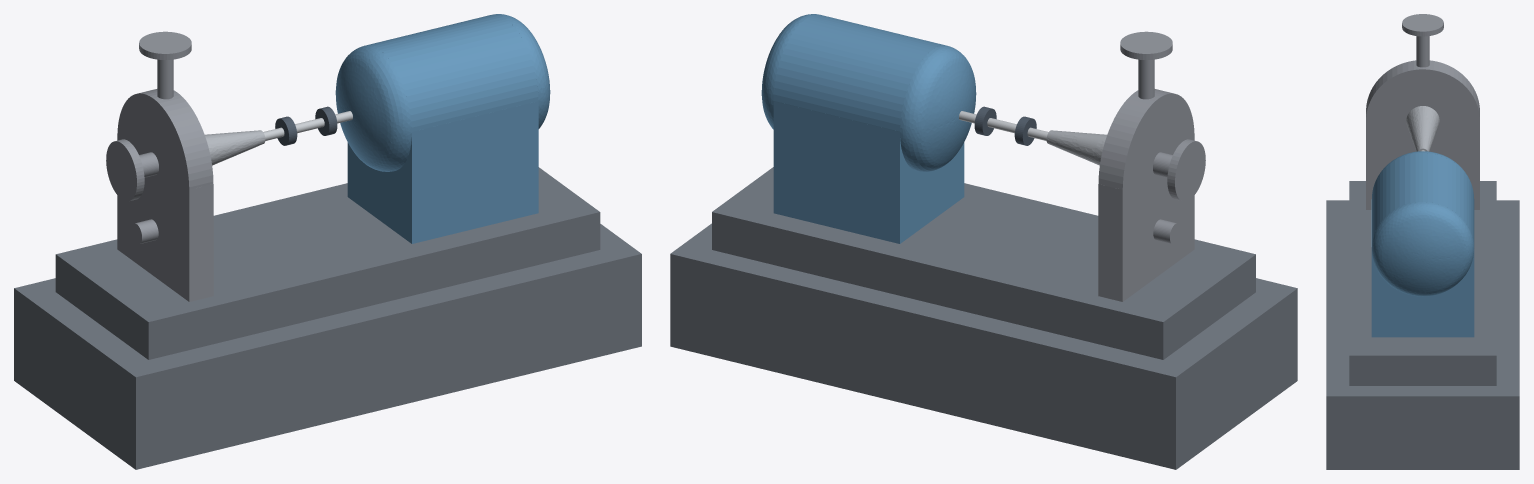
File: bomba-teste.glb
3 renders of one model, left to right at view 1: azimuth 30°, elevation 25°; view 2: azimuth 150°, elevation 25°; view 3: azimuth 270°, elevation 25°, orthographic. The views are drawn at different scales.
Visible parts, largest first — view 1: peca_16, peca_15, peca_06, peca_03, peca_08, peca_04, peca_07, peca_10, peca_05, peca_09, peca_12, peca_13 (+1 smaller); view 2: peca_16, peca_15, peca_06, peca_03, peca_07, peca_04, peca_08, peca_10, peca_05, peca_09, peca_12, peca_13 (+1 smaller); view 3: peca_16, peca_15, peca_05, peca_08, peca_06, peca_03, peca_07, peca_09, peca_12, peca_13, peca_04.
Boxes of the visible parts, left/top/right/bottom form: peca_16: left=14, top=224, right=641, bottom=469; peca_15: left=55, top=167, right=600, bottom=359; peca_06: left=347, top=101, right=538, bottom=243; peca_03: left=367, top=14, right=538, bottom=131; peca_08: left=117, top=89, right=213, bottom=233; peca_04: left=335, top=45, right=411, bottom=171; peca_07: left=117, top=138, right=213, bottom=301; peca_10: left=106, top=139, right=144, bottom=201; peca_05: left=493, top=14, right=550, bottom=128; peca_09: left=205, top=130, right=265, bottom=165; peca_12: left=139, top=31, right=191, bottom=59; peca_13: left=157, top=59, right=173, bottom=99; peca_16: left=670, top=223, right=1297, bottom=469; peca_15: left=712, top=167, right=1255, bottom=359; peca_06: left=773, top=101, right=964, bottom=243; peca_03: left=773, top=14, right=945, bottom=131; peca_07: left=1098, top=137, right=1194, bottom=301; peca_04: left=900, top=45, right=976, bottom=171; peca_08: left=1098, top=89, right=1194, bottom=232; peca_10: left=1167, top=139, right=1205, bottom=201; peca_05: left=761, top=14, right=818, bottom=129; peca_09: left=1046, top=130, right=1106, bottom=165; peca_12: left=1120, top=31, right=1172, bottom=60; peca_13: left=1138, top=59, right=1154, bottom=99; peca_16: left=1326, top=200, right=1519, bottom=469; peca_15: left=1349, top=181, right=1496, bottom=385; peca_05: left=1371, top=202, right=1474, bottom=296; peca_08: left=1366, top=60, right=1479, bottom=161; peca_06: left=1371, top=199, right=1474, bottom=337; peca_03: left=1372, top=153, right=1474, bottom=247; peca_07: left=1366, top=121, right=1479, bottom=209; peca_09: left=1406, top=106, right=1439, bottom=151; peca_12: left=1402, top=14, right=1443, bottom=36; peca_13: left=1416, top=36, right=1429, bottom=67; peca_04: left=1373, top=151, right=1472, bottom=188.
Bounding box in the file's own units: 1.2 × 0.817 × 0.5.
